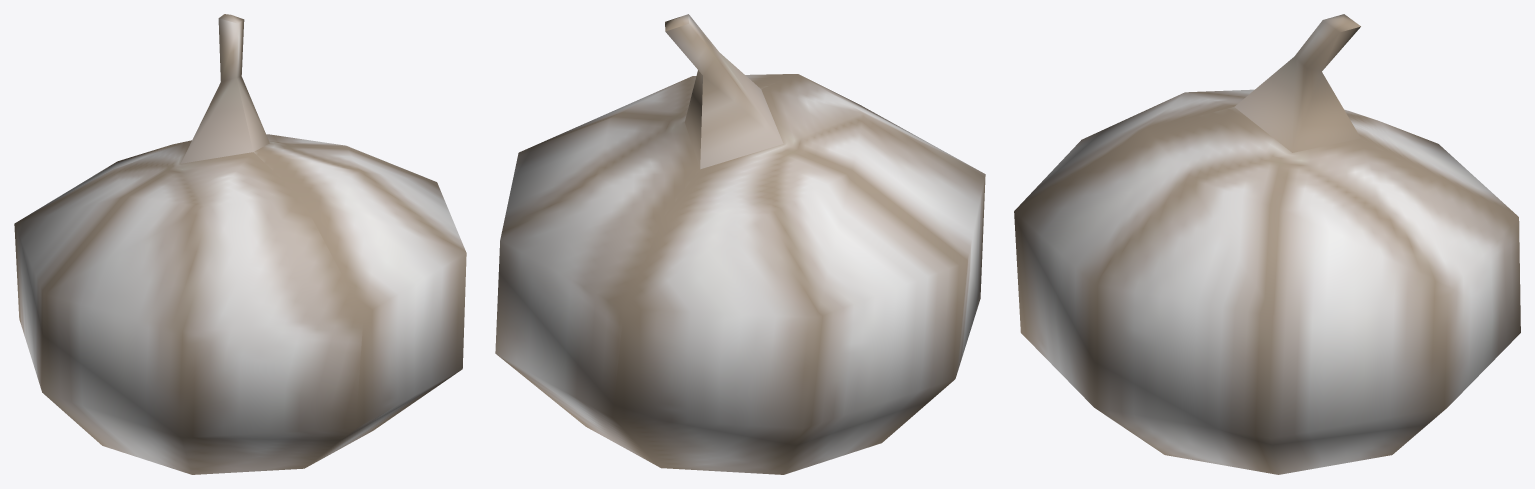
The model's file is SM_PROP_food_garlic.FBX.
3 views of the same model, side by side, from view 1: azimuth 30°, elevation 25°; view 2: azimuth 150°, elevation 25°; view 3: azimuth 270°, elevation 25° (orthographic). The views are drawn at different scales.
Parts seen in each view (by area): view 1: SM_PROP_food_garlic; view 2: SM_PROP_food_garlic; view 3: SM_PROP_food_garlic.
Part boxes in pixels (left/top/right/bottom): SM_PROP_food_garlic: left=14, top=14, right=466, bottom=474; SM_PROP_food_garlic: left=495, top=14, right=985, bottom=474; SM_PROP_food_garlic: left=1014, top=14, right=1520, bottom=474.
Bounding box in the file's own units: 18.88 × 18.92 × 18.04.
